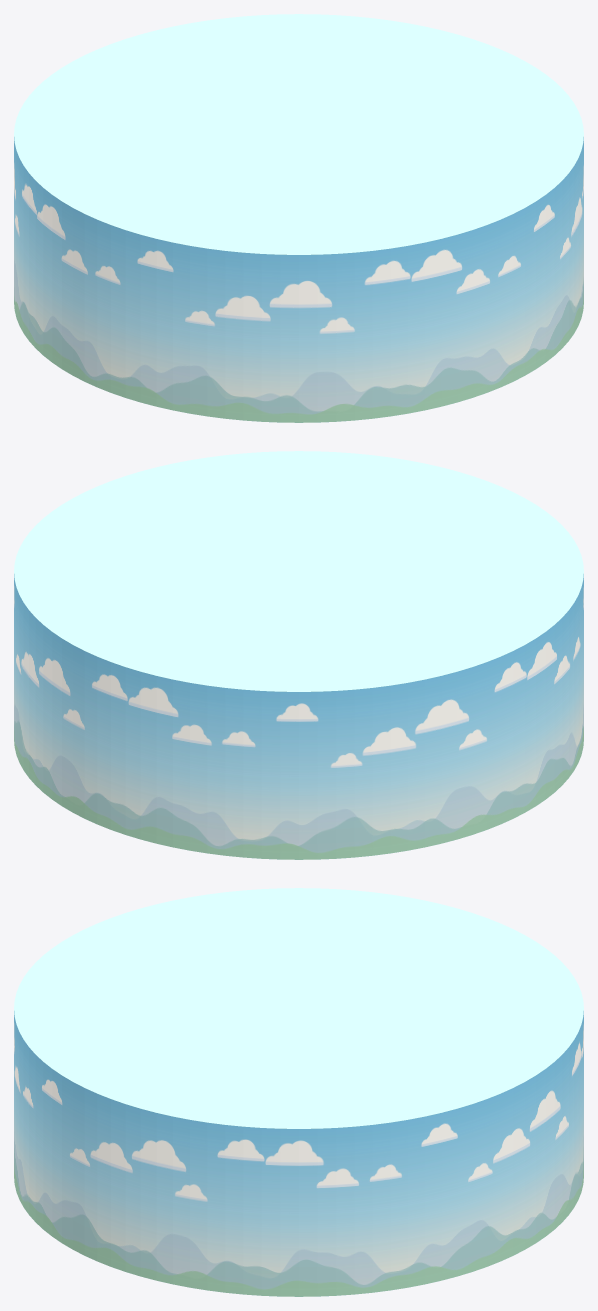
File: sky_dome.glb
3 views of the same model, one above another, from view 1: azimuth 30°, elevation 25°; view 2: azimuth 150°, elevation 25°; view 3: azimuth 270°, elevation 25° (orthographic).
Visible parts, largest first — view 1: sky; view 2: sky; view 3: sky.
Part boxes in pixels (<box>): sky: <box>14,14,583,422</box>; sky: <box>14,451,583,859</box>; sky: <box>14,888,583,1296</box>.
Size of the model in its own units: 80 by 26 by 80.
Materials: 2 (1 with a texture image).
